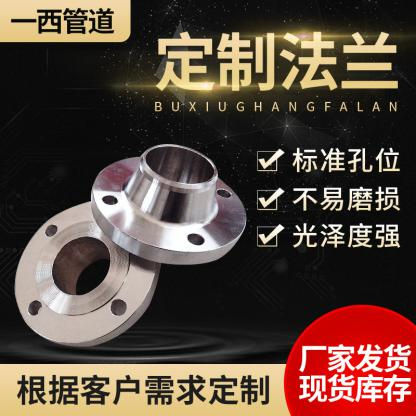FOD: (12, 192, 166, 348), (92, 139, 250, 266)
